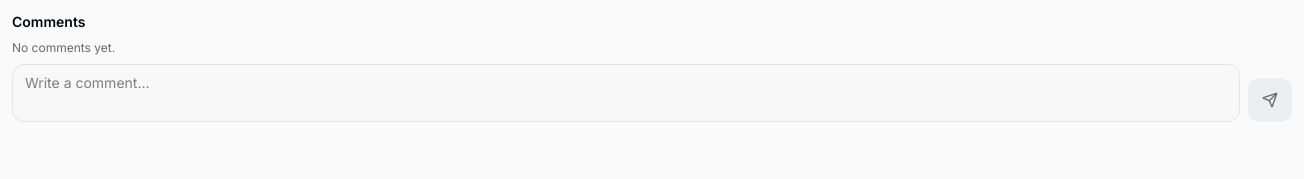
Test: IssueComments › posts a comment and shows it
Expected: the text "No comments yet." is shown, [12,40,115,55]
Expected: the button named "send" is disabled, [1248,78,1292,122]
Type "Teknisi datang jam 3" into the text box labelled "Write a comment…" at (626, 93), box [12,64,1240,122]
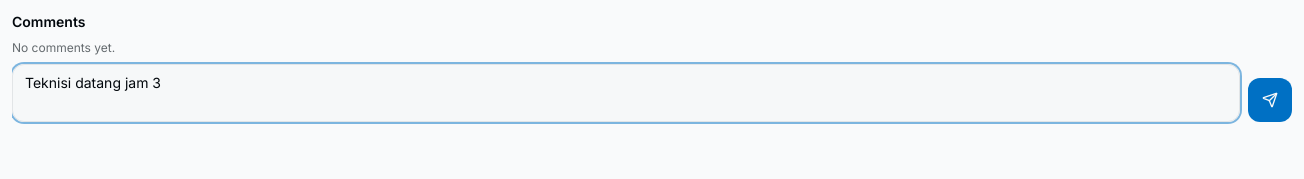
Click the button named "send" at (1270, 100), box [1248,78,1292,122]
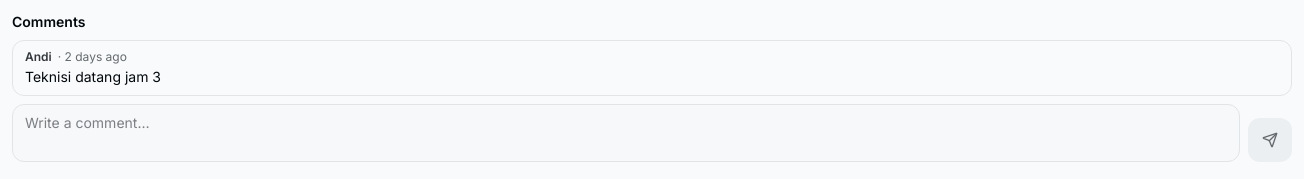
Now the text "Teknisi datang jam 3" is shown, box [25,68,161,85]
Now the text box labelled "Write a comment…" is empty, box [12,104,1240,162]
